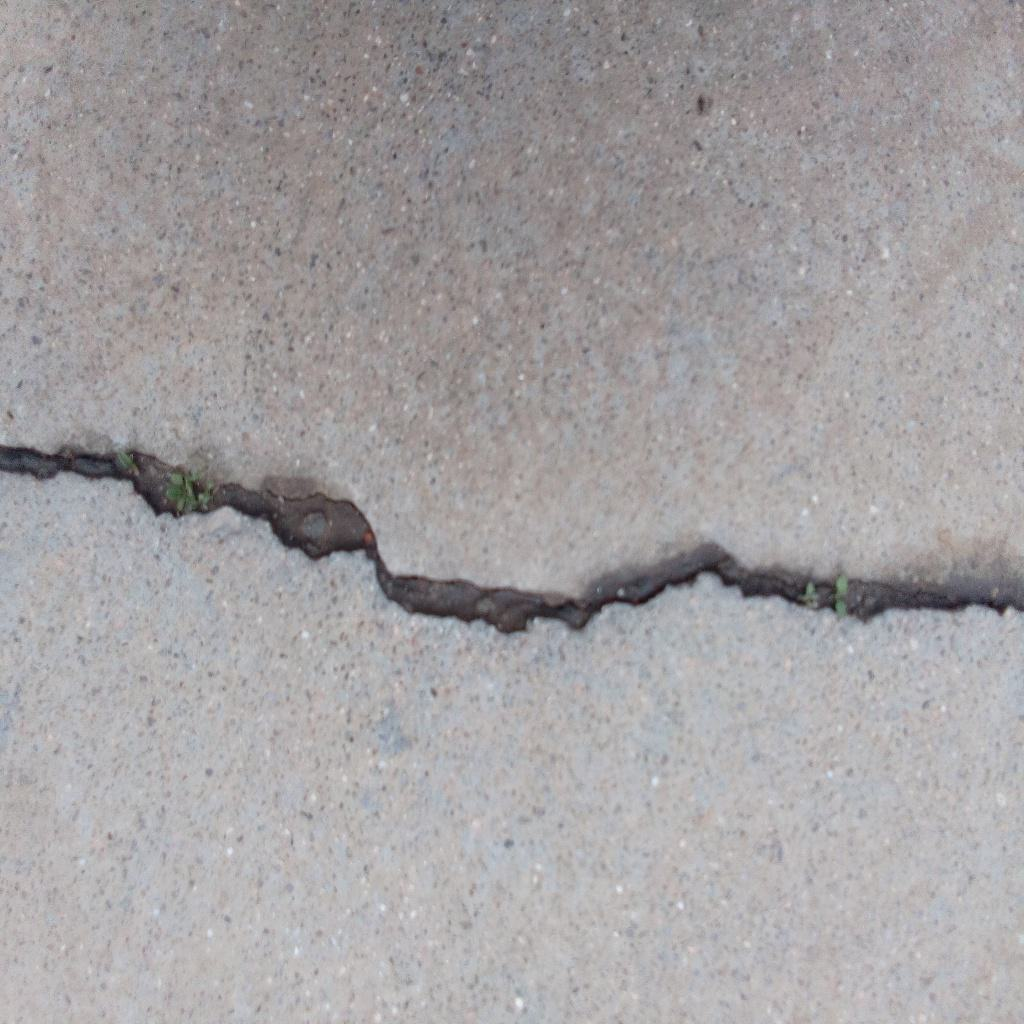Crack: (1, 445, 1024, 637)
